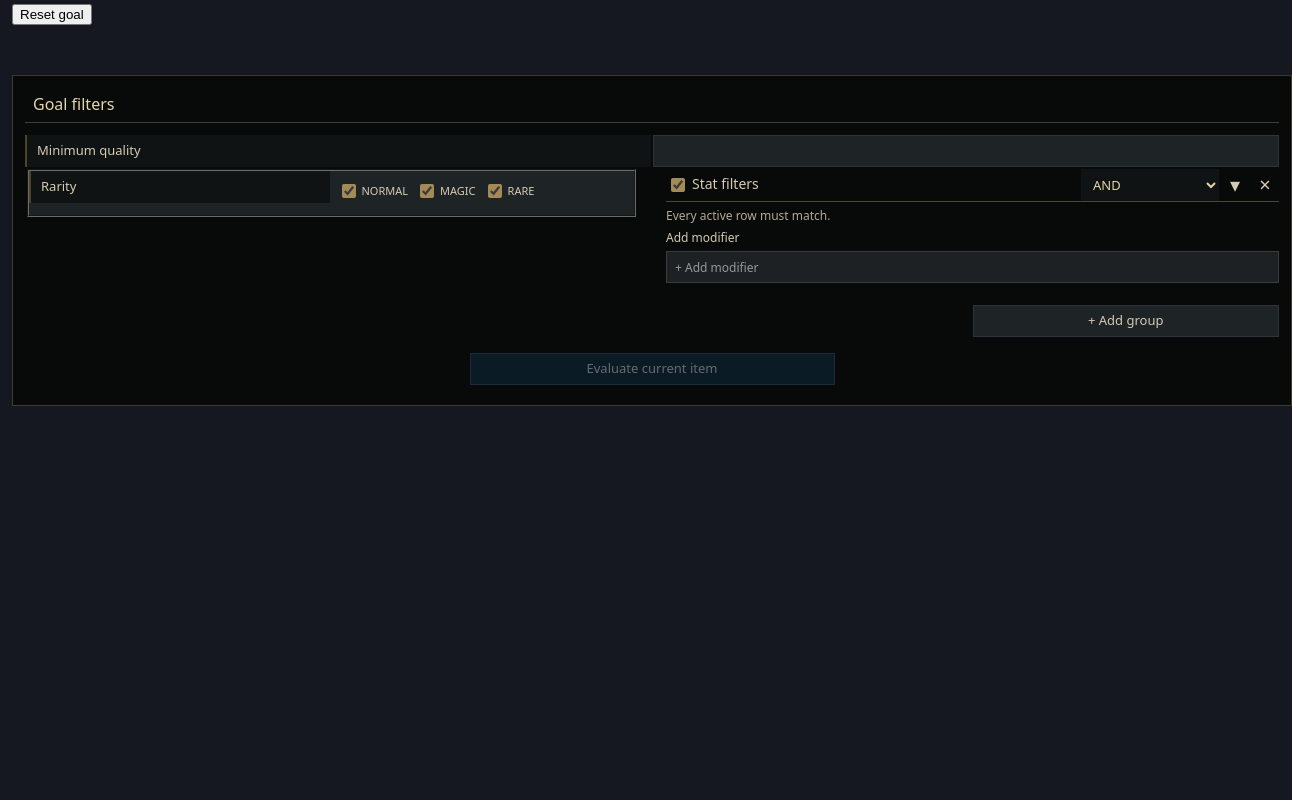
Test: production goal connection › keeps stat evaluation in compact setup without equipment or probability controls
This screenshot has width=1292, height=800.
Type "Cold" into the dropdown named "Search stats" at (972, 267), box top-left (666, 251), bottom-right (1279, 283)
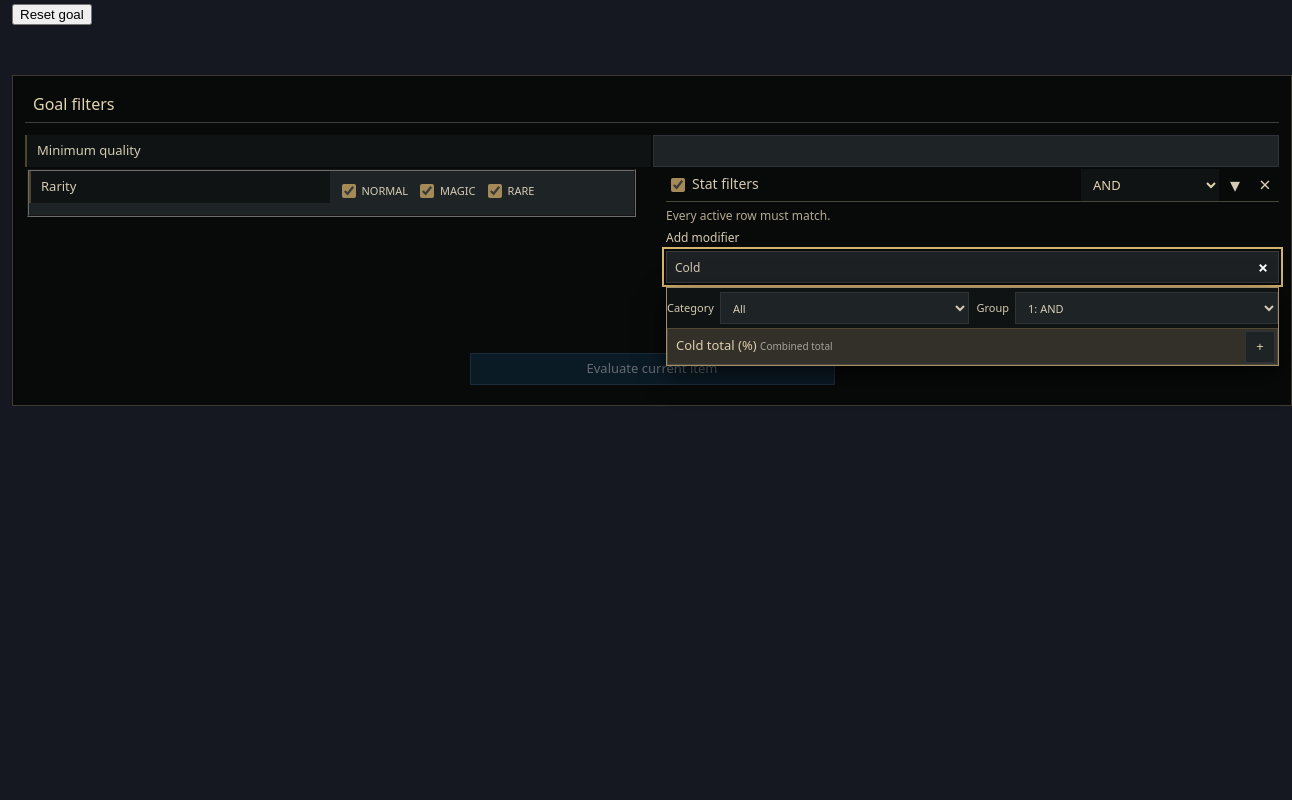
Click the button named "Add Cold total" at (1260, 347), box top-left (1245, 331), bottom-right (1275, 363)
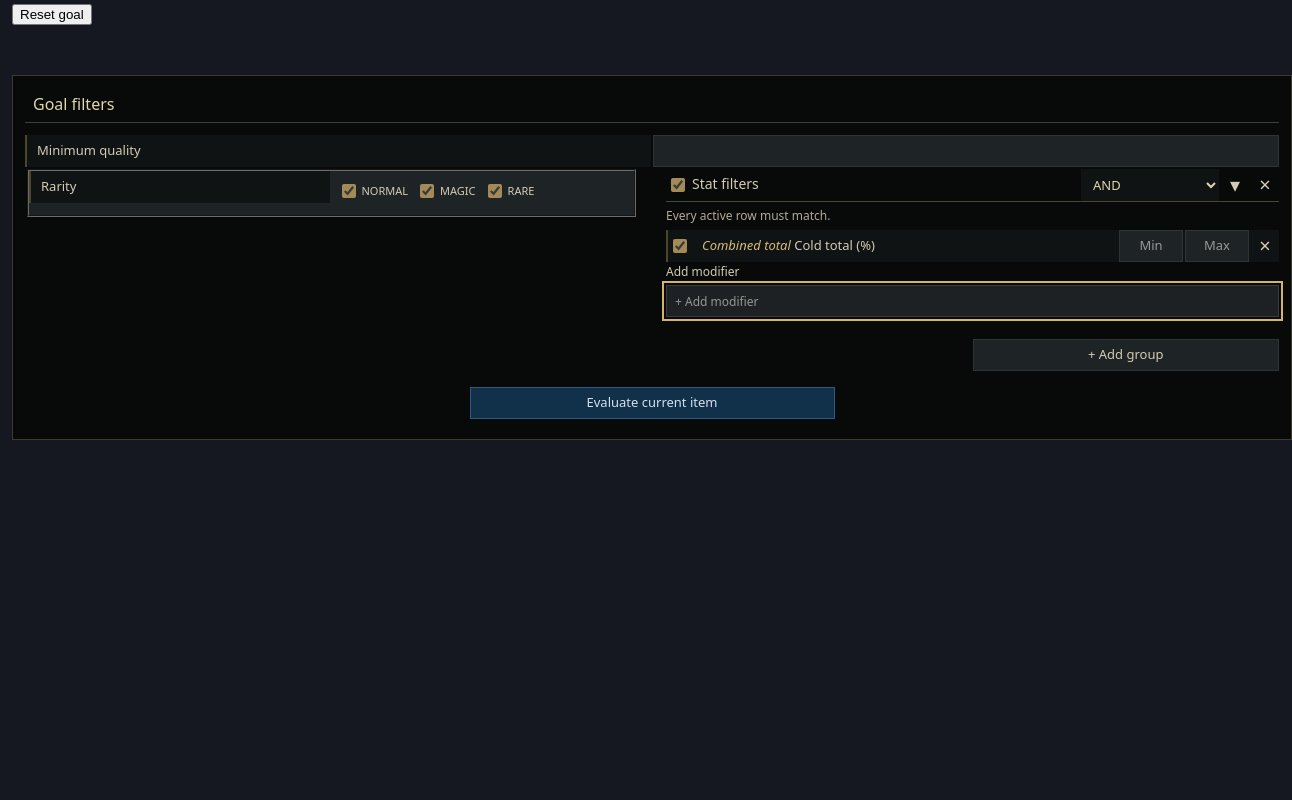
Now the button "Evaluate current item" is enabled
Click the button "Evaluate current item" at (652, 403), box top-left (470, 387), bottom-right (834, 419)
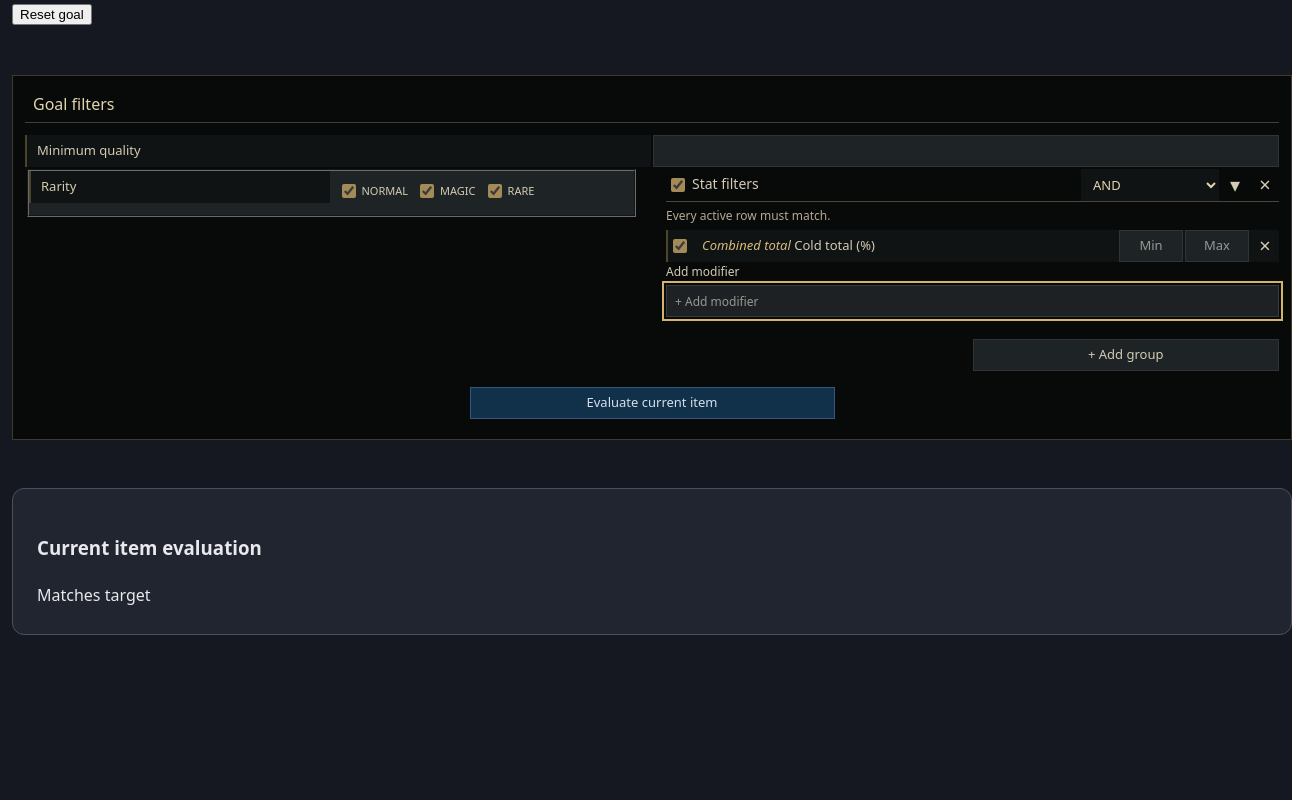
Now the text "Matches target" is shown, box top-left (37, 584), bottom-right (150, 606)
Type "edited" into the dropdown named "Search stats" at (972, 301), box top-left (666, 285), bottom-right (1279, 317)
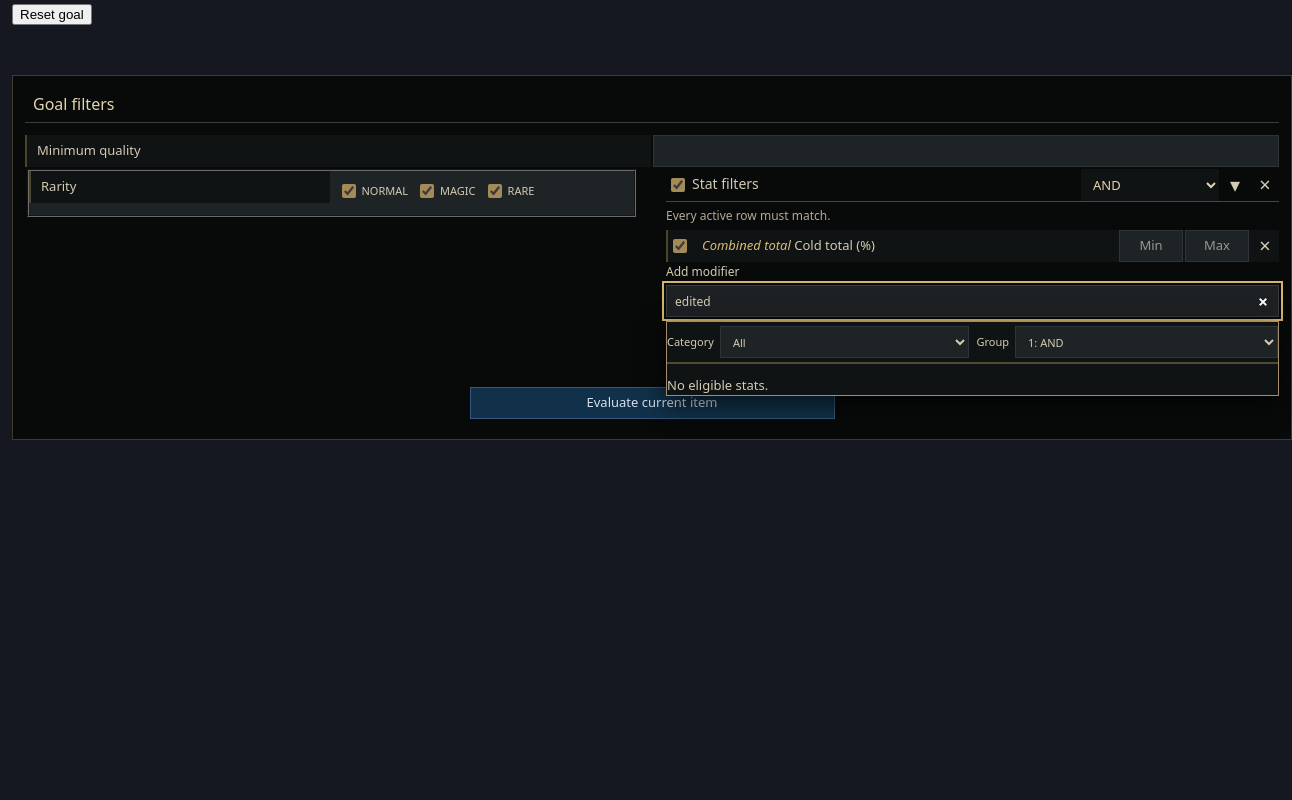
Now the text "Matches target" is gone
